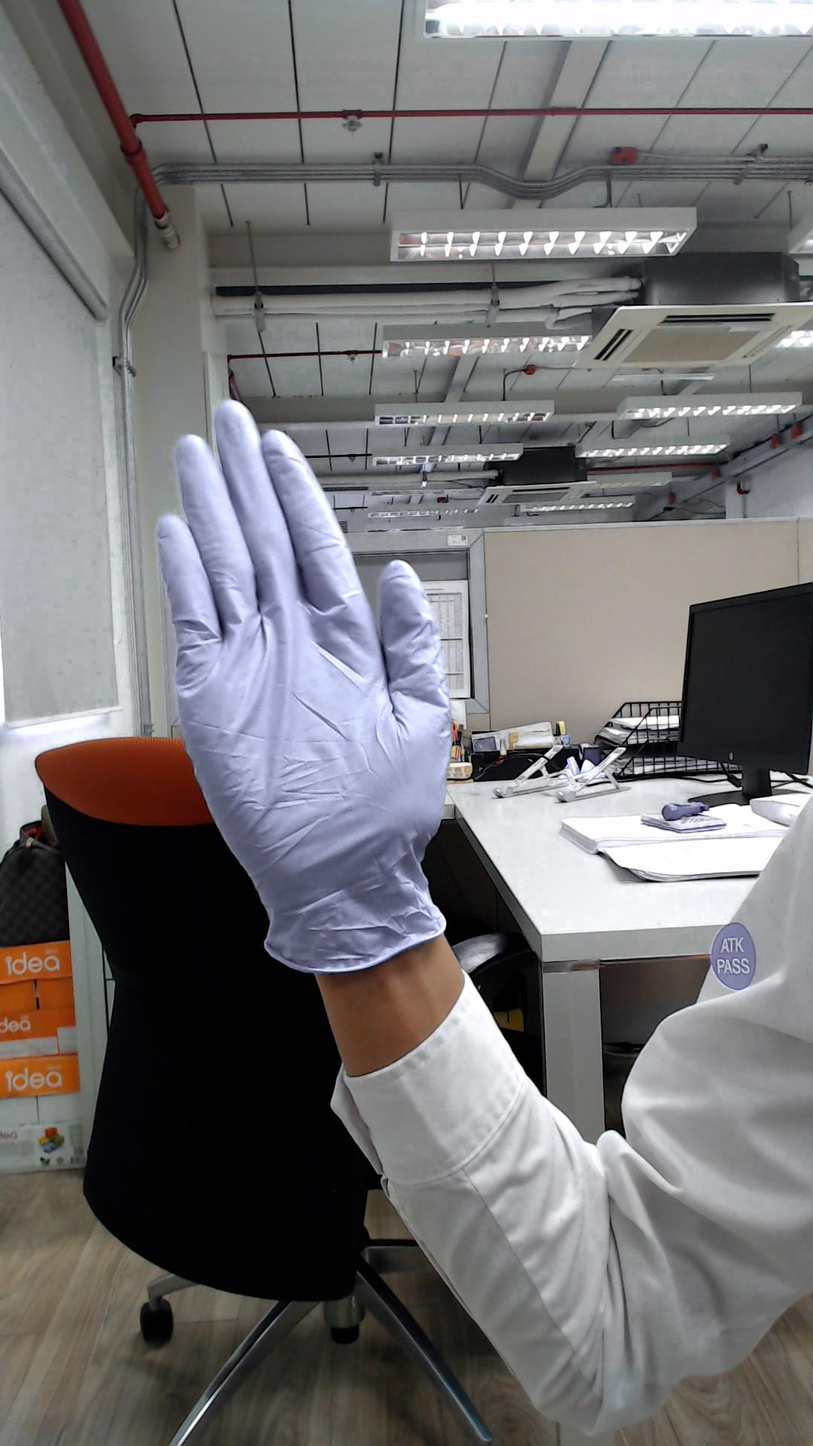gloves: (103, 373, 486, 923)
